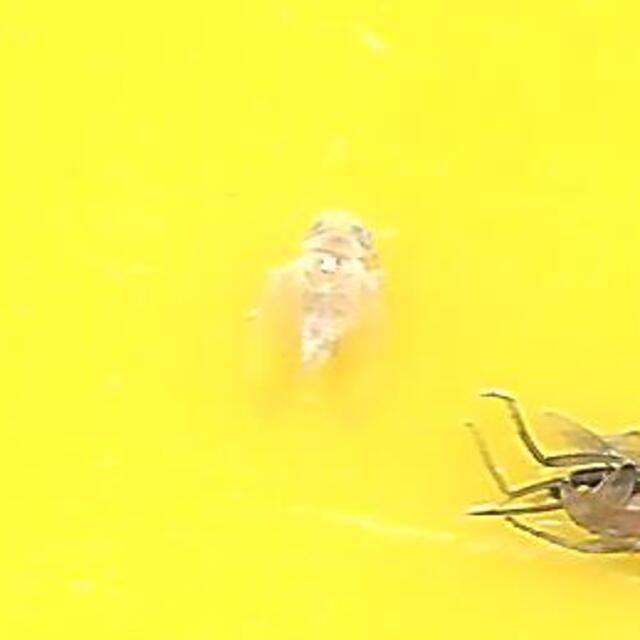Hemiptera: (247, 201, 393, 439)
